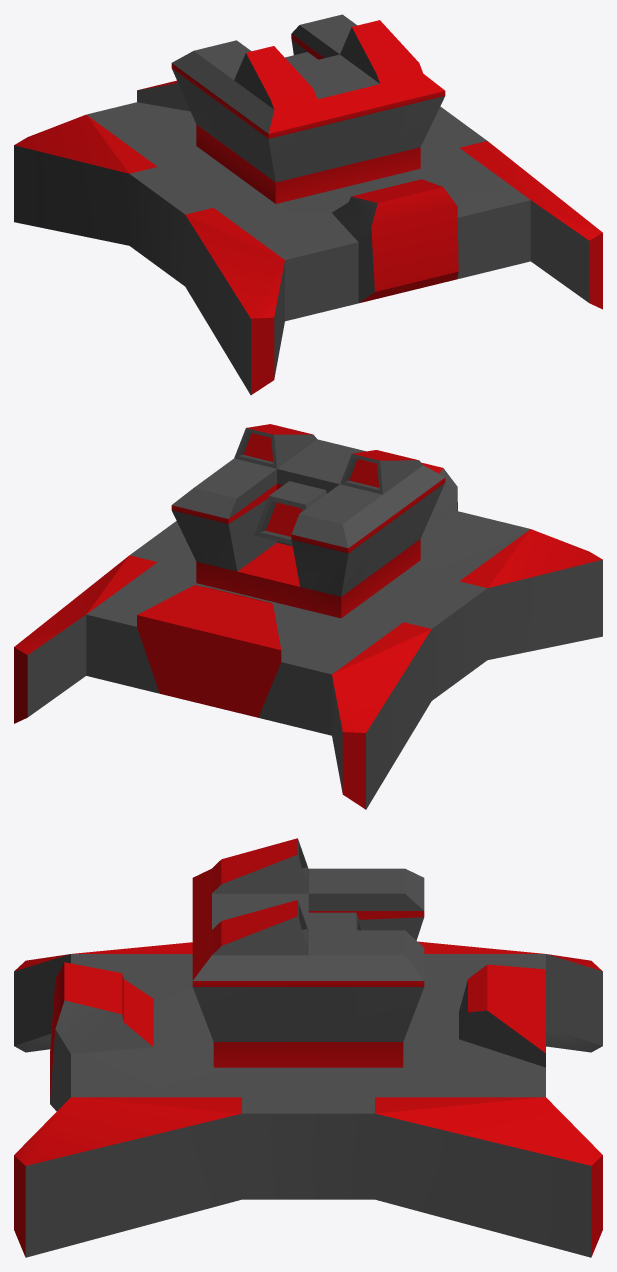
The model's file is small_drone_missileTank.dae.
The picture shows the model from 3 angles, top to bottom: view 1: azimuth 30°, elevation 25°; view 2: azimuth 150°, elevation 25°; view 3: azimuth 270°, elevation 25°; orthographic projection. The views are drawn at different scales.
Visible parts, largest first — view 1: chassis, turret; view 2: chassis, turret; view 3: chassis, turret.
Boxes of the visible parts, x1,y1,x2,y2 form: chassis: [14, 80, 602, 395]; turret: [171, 14, 445, 203]; chassis: [14, 462, 602, 809]; turret: [171, 424, 445, 618]; chassis: [14, 941, 602, 1257]; turret: [192, 838, 424, 1067].
Bounding box in the file's own units: 2.9 × 3.52 × 1.83.
